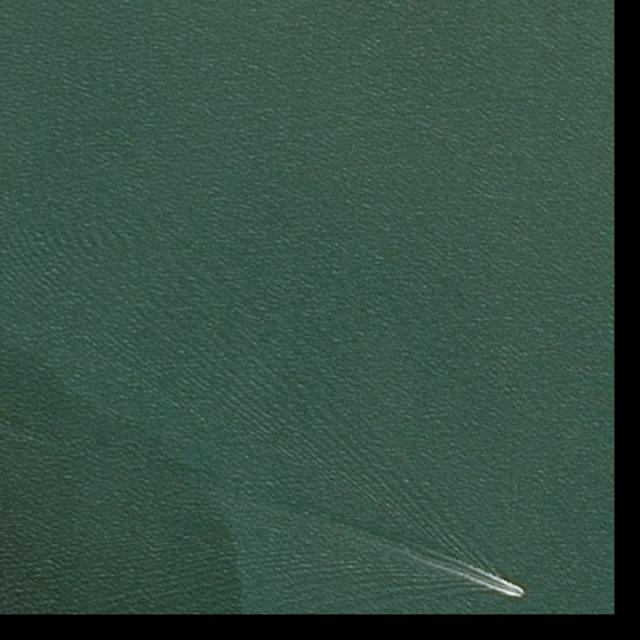ship: (510, 587, 523, 598)
